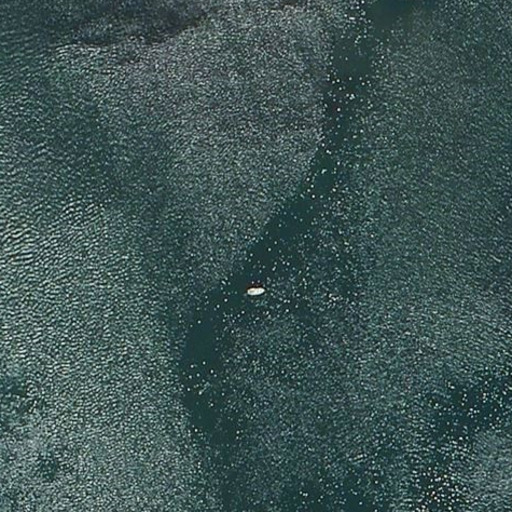ship: (245, 285, 269, 298)
